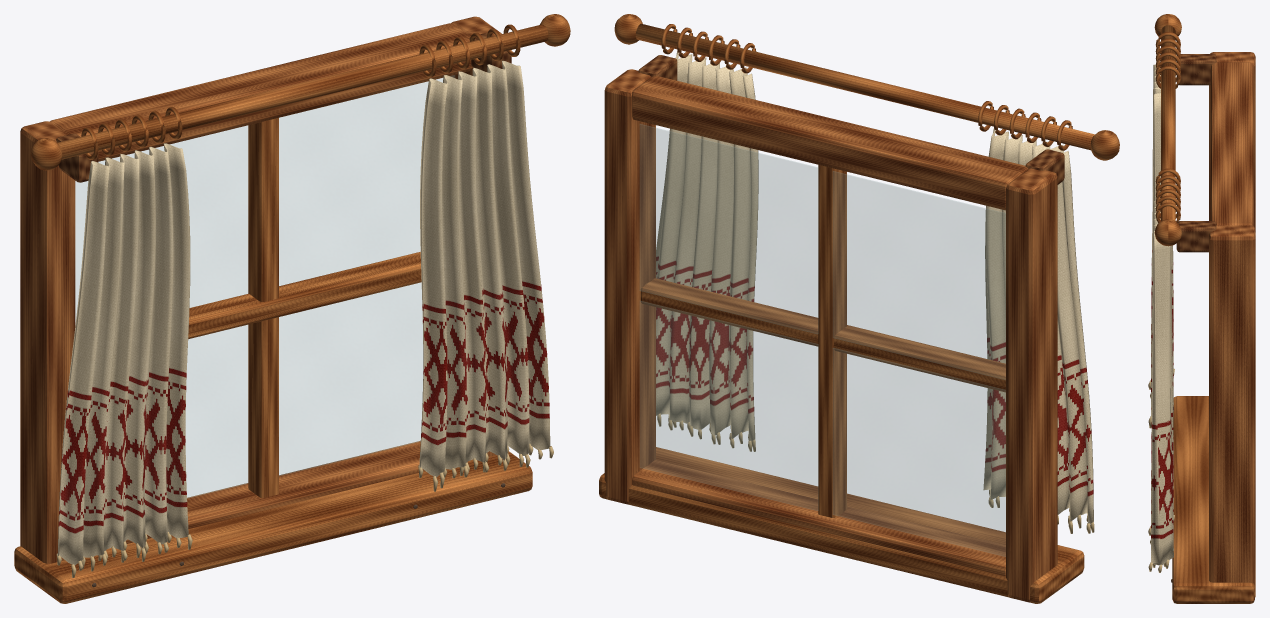
Rendered from window-with-curtains.glb.
3 views of the same model, side by side, from view 1: azimuth 30°, elevation 25°; view 2: azimuth 150°, elevation 25°; view 3: azimuth 270°, elevation 25° (orthographic). The views are drawn at different scales.
Parts seen in each view (by area): view 1: Pleated embroidered curtain, Pleated embroidered curtain.001, Pale glass 2-2, Pale glass 1-2, Deep lower sill, Left jamb, Head, Pale glass 2-1, Vertical glazing bar, Pale glass 1-1, Turned curtain pole, Bottom rail (+7 smaller); view 2: Pale glass 1-2, Pale glass 2-2, Pale glass 1-1, Pale glass 2-1, Pleated embroidered curtain.001, Left jamb, Right jamb, Head, Pleated embroidered curtain, Deep lower sill, Bottom rail, Horizontal glazing bar (+7 smaller); view 3: Right jamb, Deep lower sill, Head, Pleated embroidered curtain.001, Turned curtain pole, Pleated embroidered curtain, Left jamb, Pole bracket, Pole bracket.001, Curtain hardware rings, Curtain hardware rings.001, Turned finial.001 (+1 smaller).
Part boxes in pixels (x1,y1,x2,y2): Pleated embroidered curtain: [57, 143, 190, 565]; Pleated embroidered curtain.001: [419, 60, 550, 477]; Pale glass 2-2: [279, 75, 454, 285]; Pale glass 1-2: [279, 283, 422, 475]; Deep lower sill: [14, 451, 532, 603]; Left jamb: [20, 121, 75, 563]; Head: [50, 23, 472, 161]; Pale glass 2-1: [75, 125, 247, 321]; Vertical glazing bar: [248, 118, 278, 497]; Pale glass 1-1: [186, 325, 247, 498]; Turned curtain pole: [57, 24, 548, 159]; Bottom rail: [111, 441, 425, 547]; Pale glass 1-2: [640, 301, 818, 510]; Pale glass 2-2: [640, 124, 818, 333]; Pale glass 1-1: [833, 348, 1005, 556]; Pale glass 2-1: [833, 171, 1005, 379]; Pleated embroidered curtain.001: [656, 51, 758, 440]; Left jamb: [1006, 168, 1057, 602]; Right jamb: [604, 69, 655, 504]; Head: [632, 76, 1028, 210]; Pleated embroidered curtain: [983, 128, 1093, 523]; Deep lower sill: [599, 447, 1084, 603]; Bottom rail: [632, 460, 1005, 575]; Horizontal glazing bar: [640, 278, 1005, 392]; Right jamb: [1209, 225, 1255, 597]; Deep lower sill: [1172, 396, 1254, 603]; Head: [1210, 62, 1253, 225]; Pleated embroidered curtain.001: [1151, 201, 1173, 565]; Turned curtain pole: [1161, 25, 1175, 220]; Pleated embroidered curtain: [1151, 64, 1173, 416]; Left jamb: [1209, 52, 1255, 228]; Pole bracket: [1176, 54, 1216, 85]; Pole bracket.001: [1176, 221, 1216, 252]; Curtain hardware rings: [1155, 32, 1180, 88]; Curtain hardware rings.001: [1155, 168, 1180, 223]; Turned finial.001: [1154, 219, 1181, 246].
Size of the model in its own units: 1.47 by 1.24 by 0.3074.
Materials: 7 (7 with a texture image).
